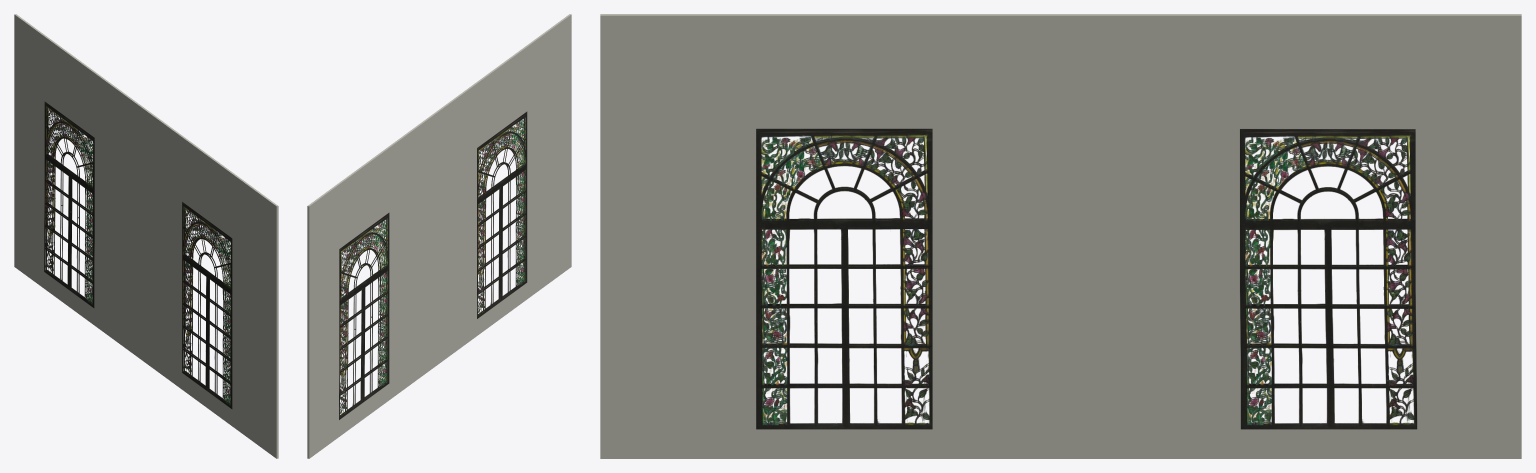
File: A_axis_collider_8.glb
3 views of the same model, side by side, from view 1: azimuth 30°, elevation 25°; view 2: azimuth 150°, elevation 25°; view 3: azimuth 270°, elevation 25° (orthographic). The views are drawn at different scales.
Visible parts, largest first — view 1: A-axis_wall_collider.8; view 2: A-axis_wall_collider.8; view 3: A-axis_wall_collider.8.
Part boxes in pixels (left/top/right/bottom): A-axis_wall_collider.8: left=14, top=14, right=278, bottom=458; A-axis_wall_collider.8: left=307, top=14, right=571, bottom=458; A-axis_wall_collider.8: left=600, top=14, right=1521, bottom=458.
Size of the model in its own units: 0.04 by 5.31 by 10.
Materials: 1 (1 with a texture image).
